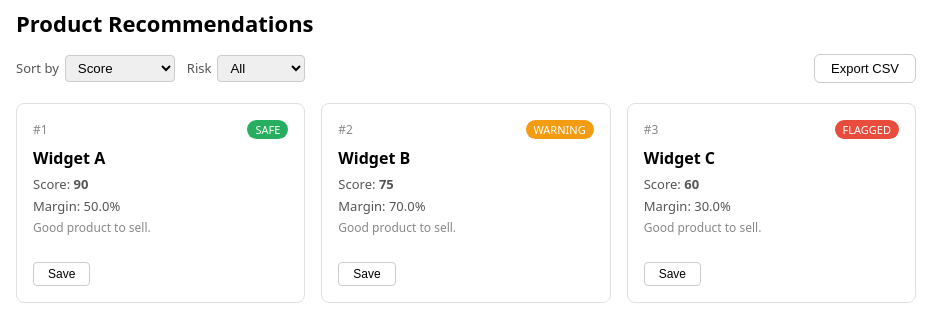
Scenario: AC 3 — Risk filter › filters to show only FLAGGED products
Select "Flagged" in the dropdown labelled "Risk" at (261, 68), box [217,55,305,82]
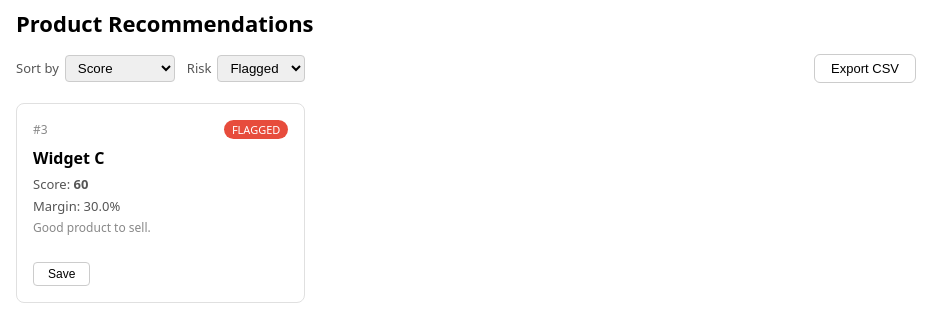
Expected: the heading "Widget C" is shown, [33,147,104,169]
Expected: the button "Widget A" is gone
